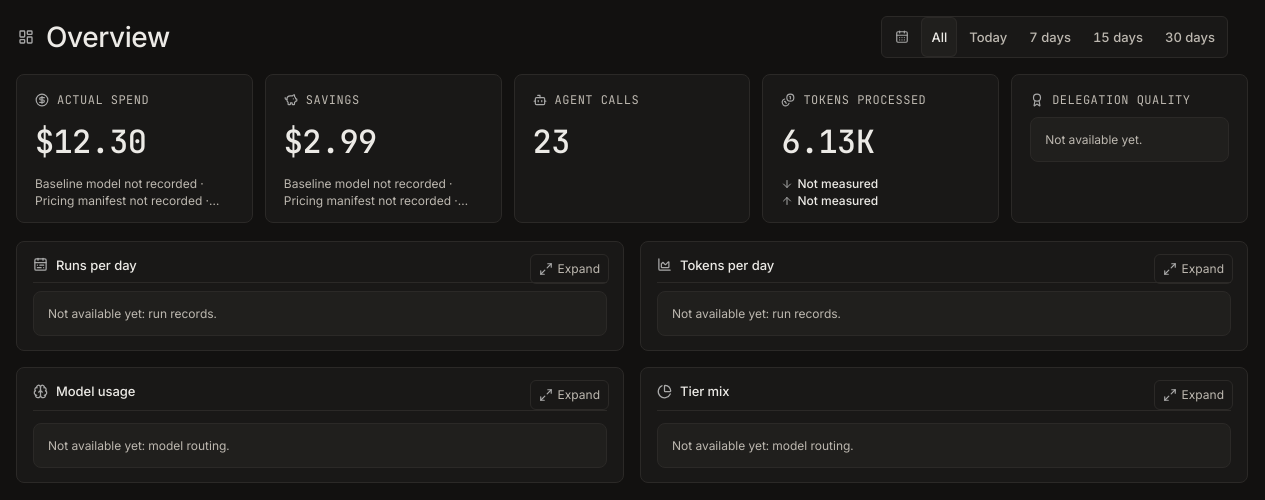
Test: OMN-21015 AC7: the Overview tiles switch between today (UTC) and all time › W1, W2: Today is unavailable even if metering serves daily measurements
Step 1. Click the radio button with aria-label "Today (UTC)" → coordinates (988, 37), box [959,17,1017,57]
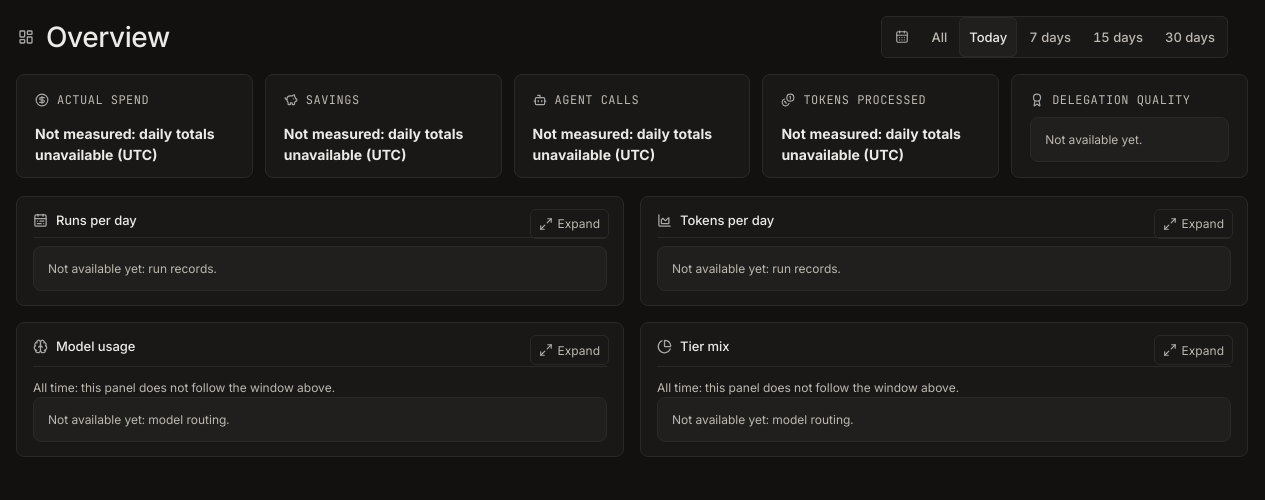
expect the text with class "local-dashboard-metric" below "Actual spend" reads "Not measured: daily totals unavailable (UTC)": met, box [35,125,214,163]
